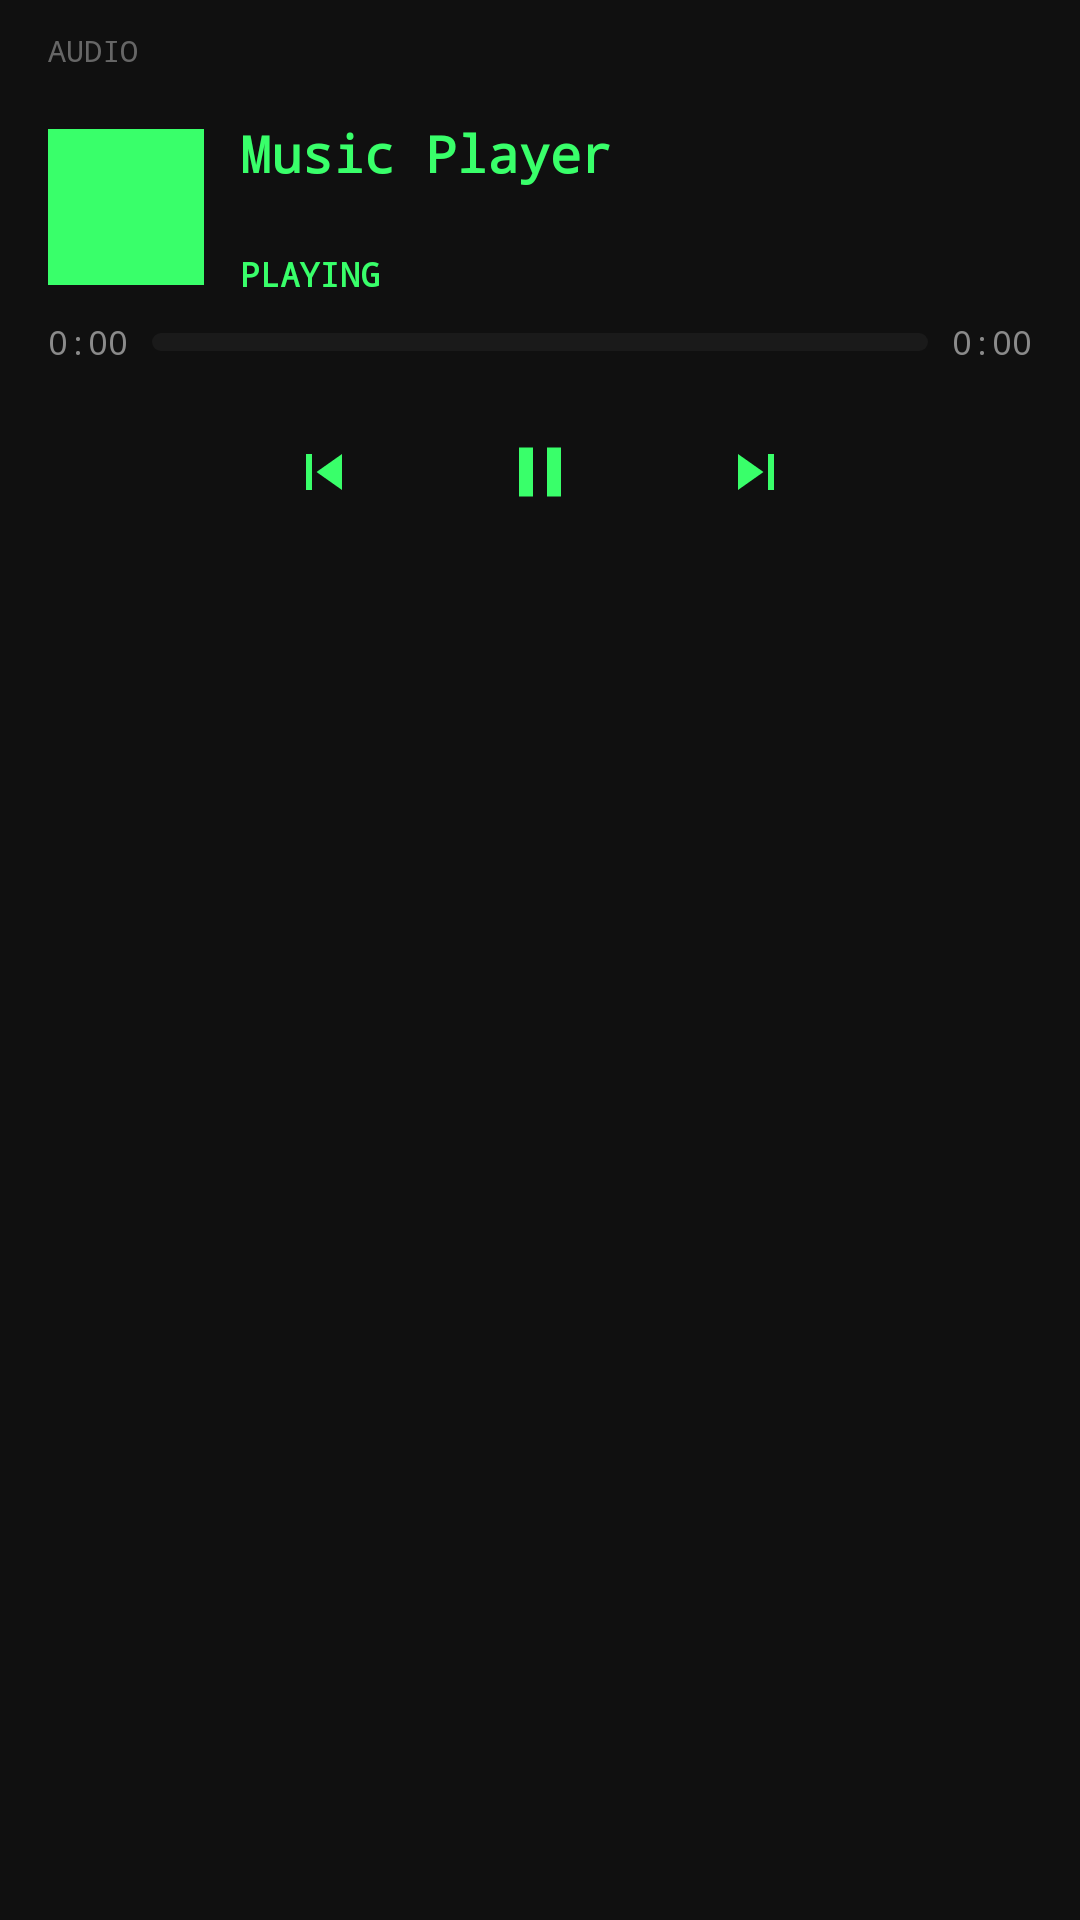

Where to tap for icons on this 1080 × 1920 app screen, as point (x, y):
Next: point (756, 472)
Play/Pause: point (540, 472)
Previous: point (324, 472)
